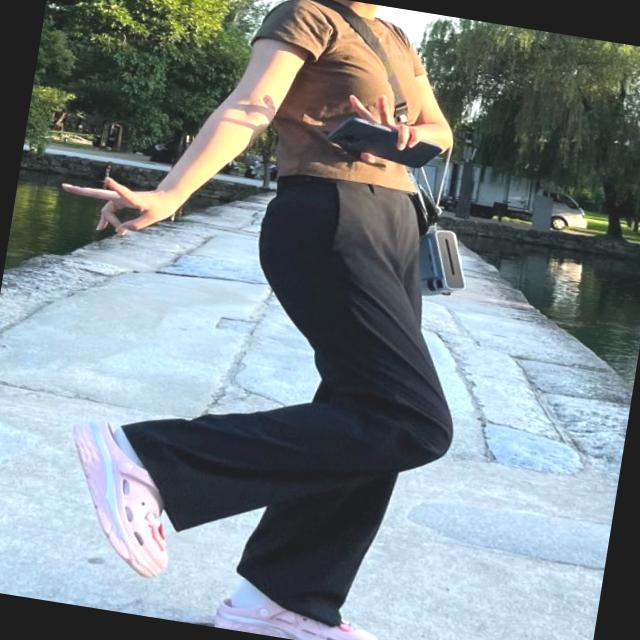shortsleeve: (234, 0, 461, 195)
slacks: (98, 143, 493, 640)
